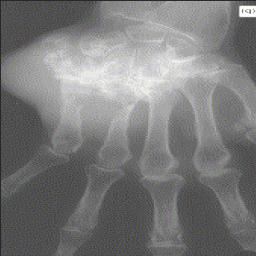cancer: (43, 43, 191, 103)
